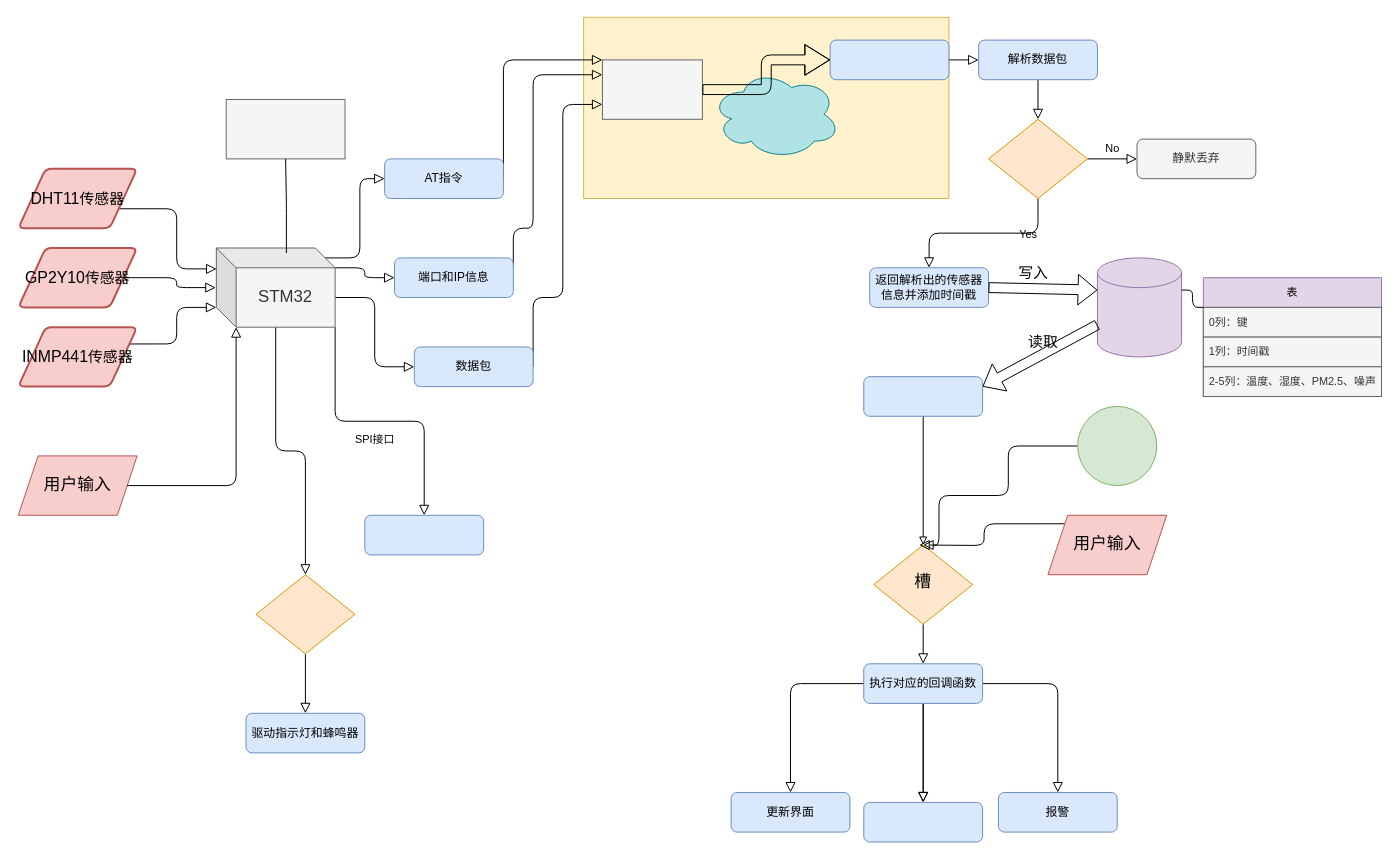
The diagram is 1399 pixels wide and 859 high, and some of its shapes have lost their labels. Each missing label, with the centre of its shape:
"ESP8266" belongs at point (651, 89).
"OLED显示UI界面" belongs at point (424, 534).
"socket监听" belongs at point (889, 59).
"WiFi通信" belongs at point (775, 114).
"修改设置" belongs at point (923, 821).
"存储为DataFrame" belongs at point (923, 396).
"数据库" belongs at point (1139, 307).
"时钟" belongs at point (1117, 445).
"是否超过阈值？" belongs at point (305, 614).
"电源模块" belongs at point (285, 129).
"符合通信协议？" belongs at point (1038, 158).
